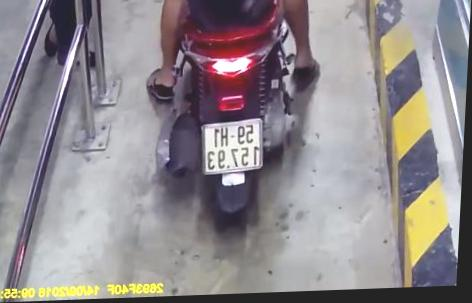License_Plate: (195, 112, 272, 184)
